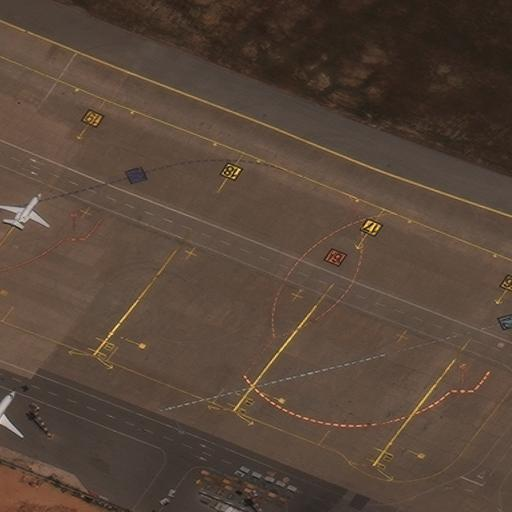Medium Civil Transport: (0, 192, 50, 225), (0, 390, 24, 436)
